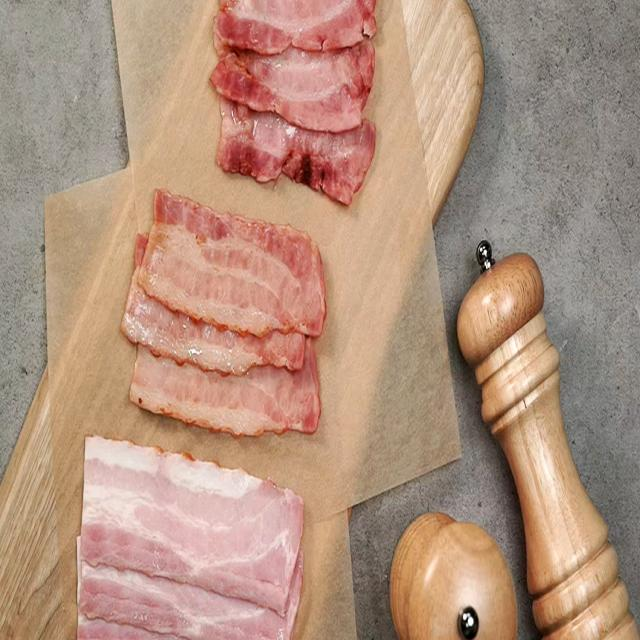bacon: (121, 192, 328, 447), (72, 436, 310, 640), (204, 0, 380, 200)
